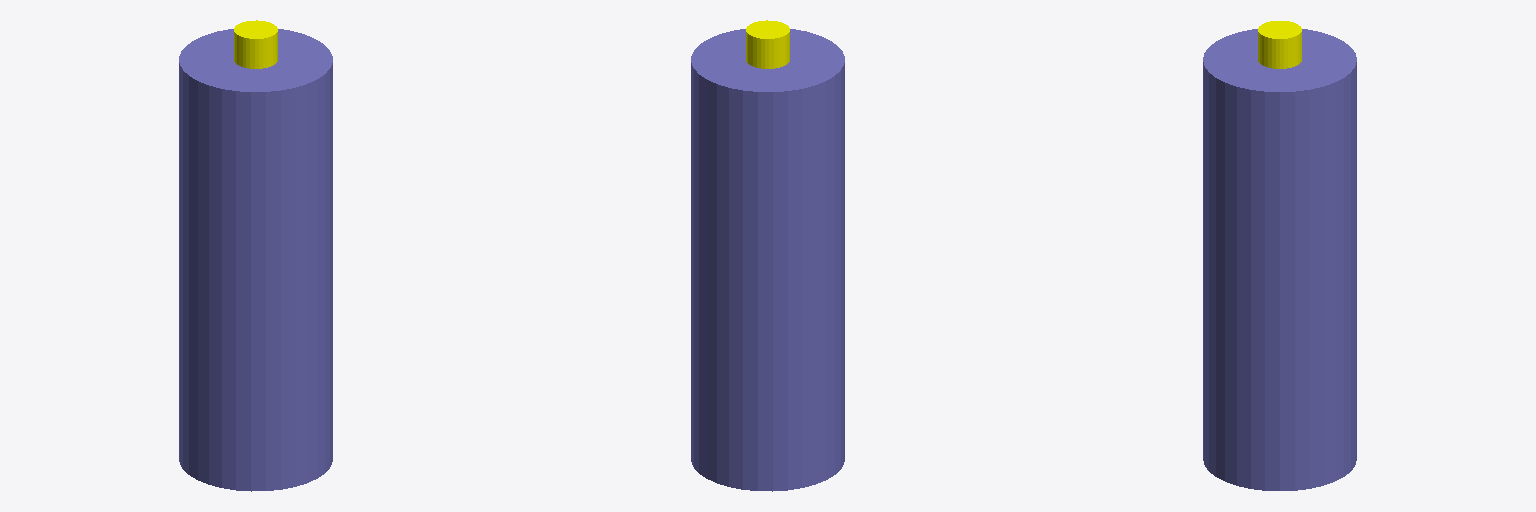
The robot description file, URDF, robot "bottle":
<?xml version="1.0" ?>
<robot name="bottle">
  <link name="bottle_bottom">
    <visual>
      <origin xyz="0 0 0.1"/>
      <geometry>
        <cylinder length="0.2" radius="0.035" />
      </geometry>
      <material name="blue">
        <color rgba="0.5 0.5 0.8 1.0"/>
      </material>
    </visual>
    <collision>
      <origin xyz="0 0 0.1"/>
      <geometry>
        <cylinder length="0.2" radius="0.035" />
      </geometry>
    </collision>
    
    <!-- For gazebo -->
    <inertial>
      <origin xyz="0 0 0.1"/>
      <mass value="0.5"/>
      <inertia
        ixx="0.1" ixy="0.0" ixz="0.0"
        iyy="0.1" iyz="0.0"
        izz="0.1"/>
    </inertial>
  </link>
  <joint name="bottle_joint" type="fixed">
    <parent link="bottle_bottom"/>
    <child link="bottle_top"/>
    <origin rpy="0 0 0" xyz="0 0 0.2"/>
  </joint>
  <link name="bottle_top">
    <visual>
      <origin xyz="0 0 0.0075"/>
      <geometry>
        <cylinder length="0.015" radius="0.01" />
      </geometry>
      <material name="yellow">
        <color rgba="1.0 1.0 0.0 1.0"/>
      </material>
    </visual>
    <collision>
      <origin xyz="0 0 0.0075"/>
      <geometry>
        <cylinder length="0.015" radius="0.01" />
      </geometry>
    </collision>
    
    <!-- For gazebo -->
    <inertial>
      <origin xyz="0 0 0.0075" rpy="0 0 0"/>
      <mass value="0.05"/>
      <inertia
        ixx="0.1" ixy="0.0" ixz="0.0"
        iyy="0.1" iyz="0.0"
        izz="0.1"/>
    </inertial>
  </link>
</robot>

--- Render facts (derived) ---
3 views of the same robot in one strip: view 1: azimuth 30°, elevation 25°; view 2: azimuth 150°, elevation 25°; view 3: azimuth 270°, elevation 25° (orthographic).
Model bottle with 2 links and 1 joints (1 fixed), rooted at bottle_bottom, posed all joints at 0.
Links seen in each view (by area): view 1: bottle_bottom, bottle_top; view 2: bottle_bottom, bottle_top; view 3: bottle_bottom, bottle_top.
Boxes of the visible links, <box> form: bottle_bottom: <box>179,29,332,491</box>; bottle_top: <box>234,20,277,68</box>; bottle_bottom: <box>691,29,844,491</box>; bottle_top: <box>746,20,789,68</box>; bottle_bottom: <box>1203,29,1356,490</box>; bottle_top: <box>1258,21,1301,68</box>.
Bounding box of the posed robot: 0.07 × 0.07 × 0.215 m (x, y, z).
Geometry: primitives only (box / cylinder / sphere), no mesh files.
